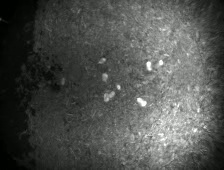corn: (134, 95, 150, 109), (144, 59, 154, 75), (101, 90, 111, 104), (95, 55, 107, 66), (155, 58, 165, 70), (99, 71, 109, 83), (58, 74, 68, 86), (107, 89, 117, 100), (114, 81, 122, 91)
